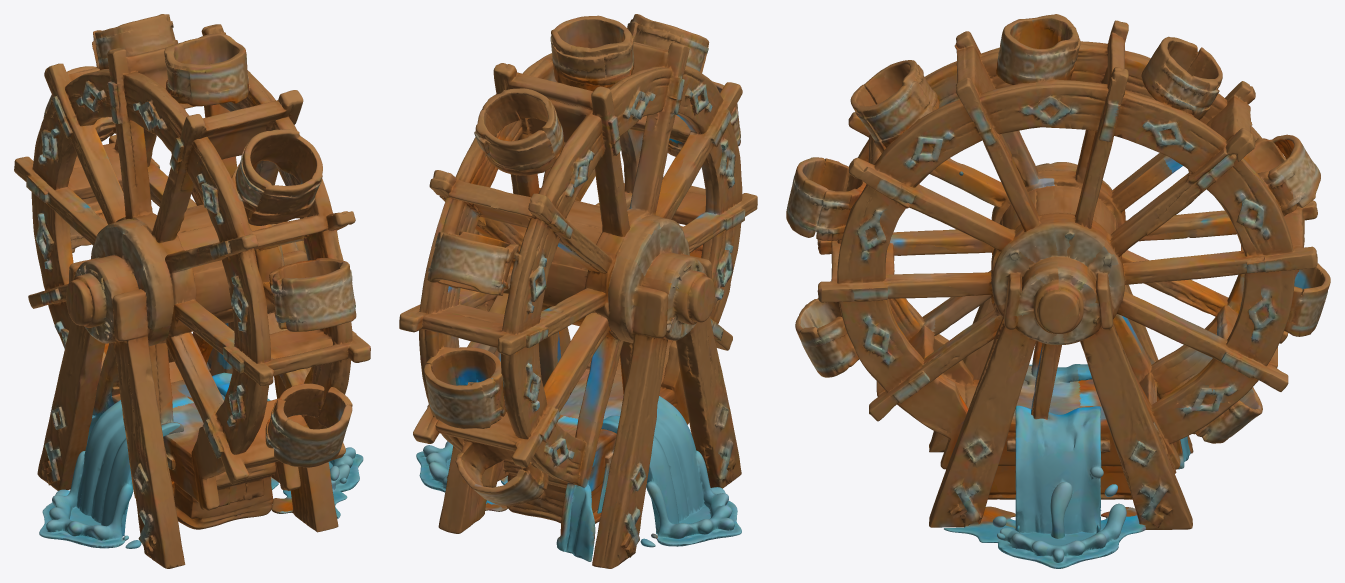
Rendered from 4. wheel noria.glb.
The picture shows the model from 3 angles, left to right: view 1: azimuth 30°, elevation 25°; view 2: azimuth 150°, elevation 25°; view 3: azimuth 270°, elevation 25°; orthographic projection.
Visible parts, largest first — view 1: tripo_node_a8a0510f-419c-446a-bdb7-3cb2864c9847; view 2: tripo_node_a8a0510f-419c-446a-bdb7-3cb2864c9847; view 3: tripo_node_a8a0510f-419c-446a-bdb7-3cb2864c9847.
Part boxes in pixels (x1,y1,x2,y2): tripo_node_a8a0510f-419c-446a-bdb7-3cb2864c9847: (14, 14, 370, 568); tripo_node_a8a0510f-419c-446a-bdb7-3cb2864c9847: (399, 14, 757, 568); tripo_node_a8a0510f-419c-446a-bdb7-3cb2864c9847: (786, 14, 1330, 568).
Size of the model in its own units: 0.6866 by 0.9417 by 1.
1 material, 1 textured.
